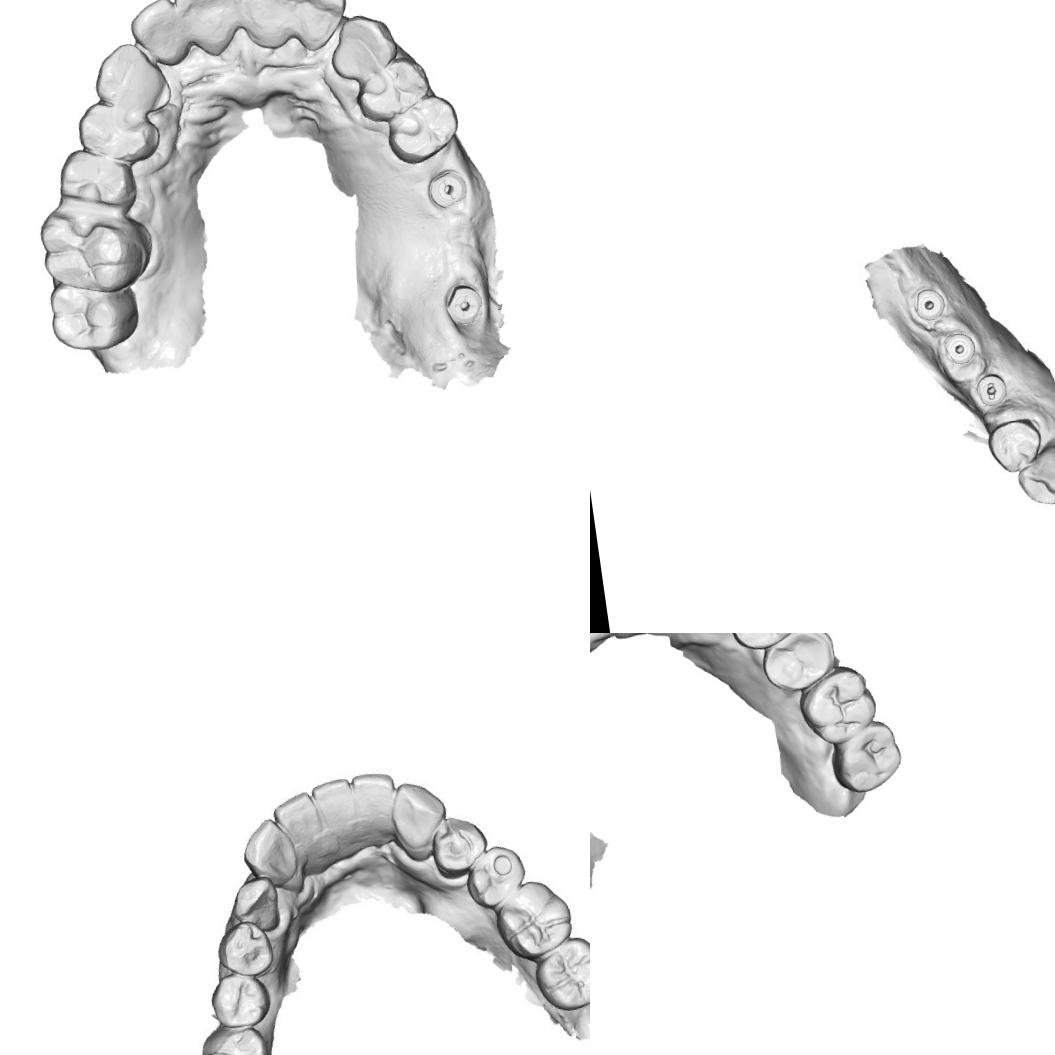canine: (87, 35, 171, 119), (323, 8, 402, 84), (391, 777, 452, 859), (230, 872, 286, 934), (1010, 441, 1055, 512)
implant: (905, 282, 950, 328), (939, 331, 977, 370)
implant_minus: (426, 165, 469, 211), (974, 365, 1012, 409)
implant_plus: (442, 278, 489, 330)
incisor: (167, 0, 249, 63), (238, 812, 299, 890), (123, 0, 185, 71), (232, 0, 305, 55), (346, 766, 403, 836), (270, 789, 328, 856), (310, 776, 361, 852), (286, 0, 353, 55)
molar: (34, 194, 160, 302), (489, 874, 577, 966), (790, 662, 881, 750), (44, 278, 145, 357), (824, 719, 908, 798), (532, 928, 590, 1013), (192, 1018, 276, 1055)
premolar: (72, 93, 164, 170), (51, 140, 141, 217), (380, 88, 466, 166), (350, 51, 437, 124), (756, 633, 841, 695), (425, 811, 495, 880), (206, 968, 274, 1036), (212, 916, 280, 984), (463, 841, 530, 910), (983, 415, 1046, 477), (726, 633, 806, 653)
